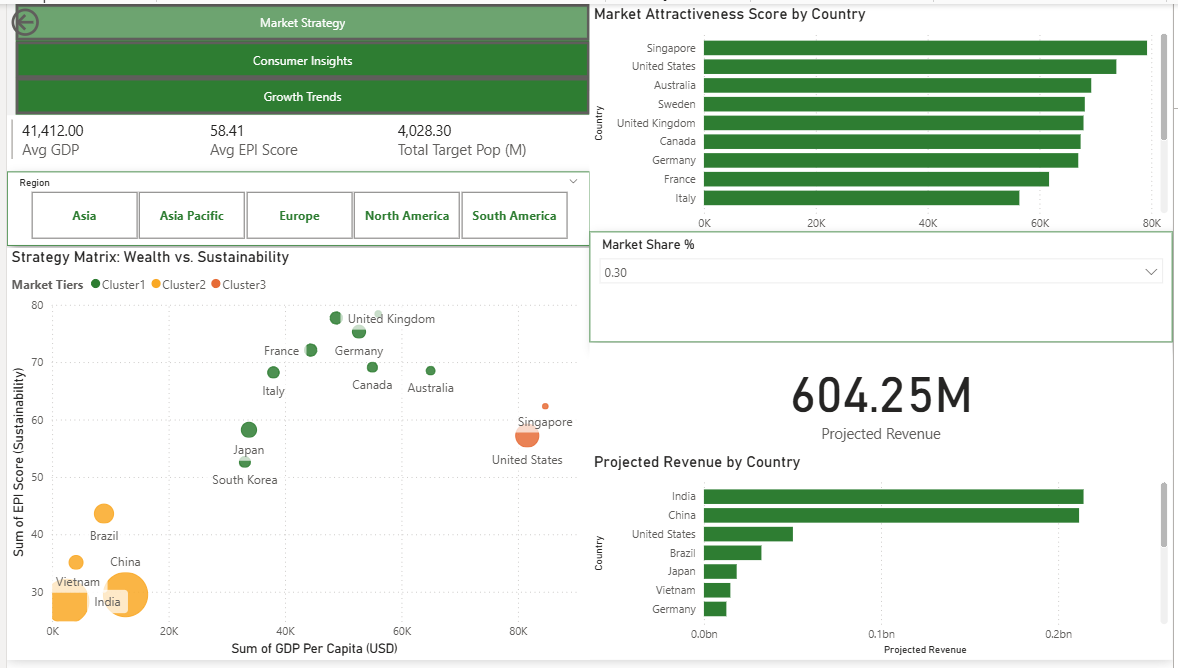

Layout of this report page (visuals, bound fields, positions):
{"tool":"powerbi","page":{"name":"Market Strategy (Yee Han)","canvas":[1280,720],"ordinal":1},"visuals":[{"type":"shape","box":[10,0,630,121.4],"z":0},{"type":"actionButton","box":[10,0,630,40],"z":1000},{"type":"actionButton","box":[10,41.4,630,40],"z":2000},{"type":"actionButton","box":[10,81.4,630,40],"z":3000},{"type":"multiRowCard","fields":{"Values":["Sheet1.Avg GDP","Sheet1.Avg EPI Score","Sheet1.Total Target Pop (M)"]},"box":[0,121.7,640,61.7],"z":4000},{"type":"actionButton","box":[0,0,100,40],"z":5000},{"type":"slicer","fields":{"Values":["Sheet1.Region"]},"box":[0,183.3,640,81.7],"z":6000},{"type":"scatterChart","title":"Strategy Matrix: Wealth vs. Sustainability","fields":{"Category":["Sheet1.Country"],"X":["Sheet1.GDP Per Capita (USD)"],"Y":["Sheet1.EPI Score (Sustainability)"],"Size":["Sheet1.Population (M)"],"Series":["Sheet1.Market Tiers"]},"box":[0,267.1,640,452.9],"z":7000},{"type":"clusteredBarChart","fields":{"Category":["Sheet1.Country"],"Y":["Sheet1.Market Attractiveness Score"]},"box":[640,0,640,268.6],"z":8000},{"type":"slicer","fields":{"Values":["Market Share %.Market Share %"]},"box":[640,250,640,121.4],"z":9000},{"type":"card","fields":{"Values":["Sheet1.Projected Revenue"]},"box":[640,371.4,640,122.9],"z":10000},{"type":"clusteredBarChart","fields":{"Category":["Sheet1.Country"],"Y":["Sheet1.Projected Revenue"]},"box":[640,492.9,640,227.1],"z":11000},{"type":"slicer","fields":{"Values":["Sheet1.Country"]},"box":[165.3,121.6,164.4,68.1],"z":11001}]}

Visuals, with their boxes in screenshot pixels (x1, y1, x2, y2), scaled from the page's 1280x720 canvas onto the 1178x668 screenshot:
shape: box(9, 0, 589, 113)
actionButton: box(9, 0, 589, 37)
actionButton: box(9, 38, 589, 76)
actionButton: box(9, 76, 589, 113)
multiRowCard - Sheet1.Avg GDP x Sheet1.Avg EPI Score: box(0, 113, 589, 170)
actionButton: box(0, 0, 92, 37)
slicer - Sheet1.Region: box(0, 170, 589, 246)
"Strategy Matrix: Wealth vs. Sustainability" scatterChart: box(0, 248, 589, 667)
clusteredBarChart - Sheet1.Country x Sheet1.Market Attractiveness Score: box(589, 0, 1177, 249)
slicer - Market Share %.Market Share %: box(589, 232, 1177, 345)
card - Sheet1.Projected Revenue: box(589, 345, 1177, 459)
clusteredBarChart - Sheet1.Country x Sheet1.Projected Revenue: box(589, 457, 1177, 667)
slicer - Sheet1.Country: box(152, 113, 303, 176)
